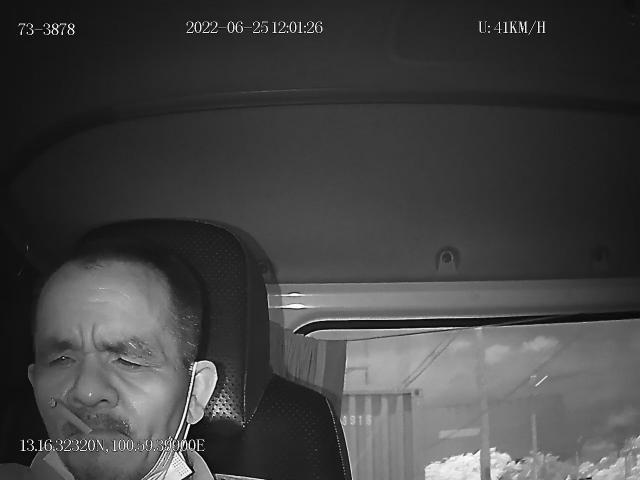SafeDriving: (41, 341, 84, 374)
Smoking: (46, 396, 94, 436)
